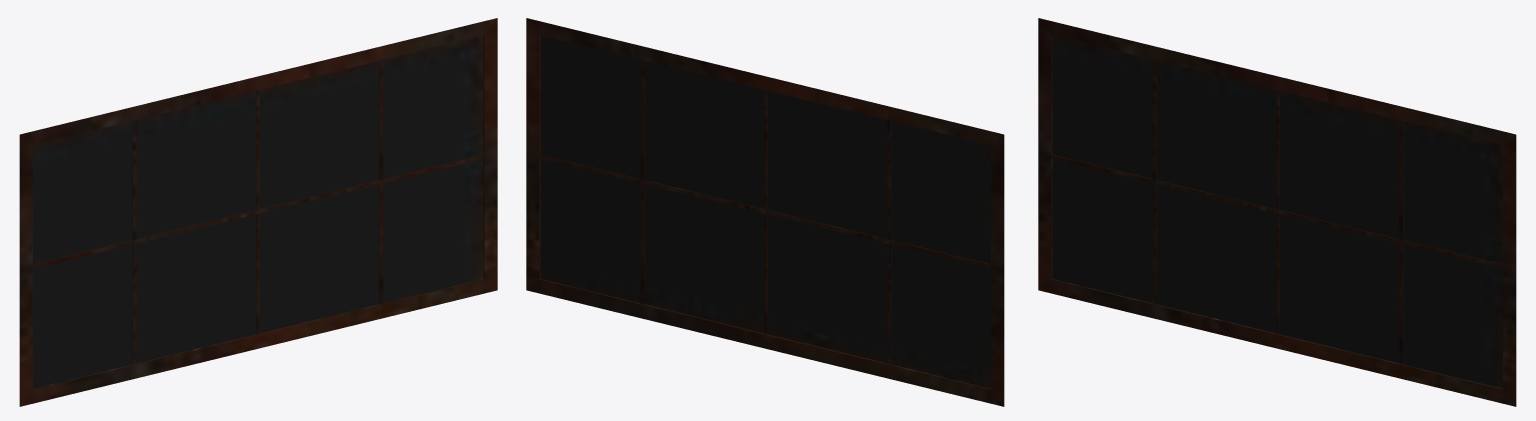
The model's file is strenghtened_glass_window_textured.glb.
The picture shows the model from 3 angles, left to right: view 1: azimuth 30°, elevation 25°; view 2: azimuth 150°, elevation 25°; view 3: azimuth 330°, elevation 25°; orthographic projection.
Parts seen in each view (by area): view 1: Cube; view 2: Cube; view 3: Cube.
Boxes of the visible parts, x1,y1,x2,y2 form: Cube: (19,18,497,406); Cube: (526,18,1004,406); Cube: (1038,18,1516,406).
Size of the model in its own units: 1.55 by 0.8451 by 0.03.
Materials: 1 (1 with a texture image).
